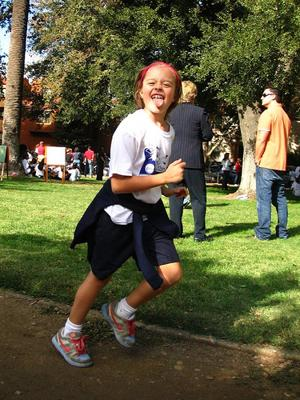person: (53, 59, 188, 370)
